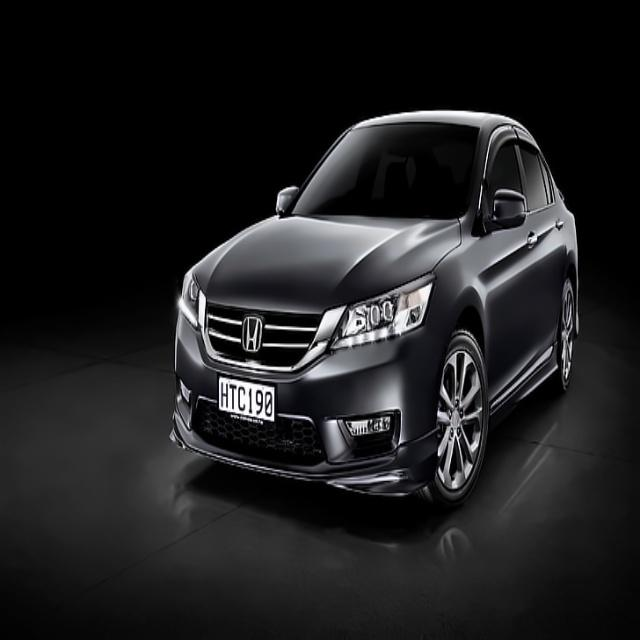Car hood: (190, 210, 463, 317)
Fender - -F-L-: (424, 213, 490, 423)
Front bumper: (159, 319, 448, 504)
Headlight - -L-: (325, 266, 441, 358)
Headlight - -R-: (171, 264, 211, 338)
Passenger-s door - -F-L-: (488, 119, 538, 403)
Passenger-s door - -R-L-: (520, 119, 569, 385)
Side bumper - -L-: (483, 335, 564, 425)
Side mirror - -L-: (473, 184, 529, 239)
Side mirror - -R-: (271, 181, 305, 223)
